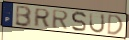B: (14, 5, 32, 28)
D: (107, 13, 125, 36)
R: (52, 9, 70, 30), (33, 8, 51, 28)
S: (71, 11, 88, 33)
U: (88, 12, 106, 35)
